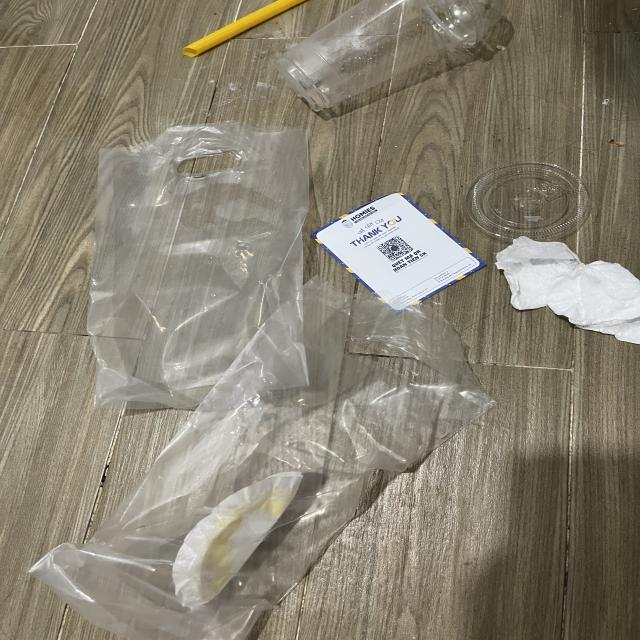bag: (91, 121, 312, 408)
drinking straw: (182, 0, 305, 57)
lid: (464, 161, 591, 241)
napkin: (495, 236, 640, 346)
paper: (306, 192, 488, 309)
plastic glass: (274, 0, 507, 113)
trash bag: (27, 277, 499, 640)
